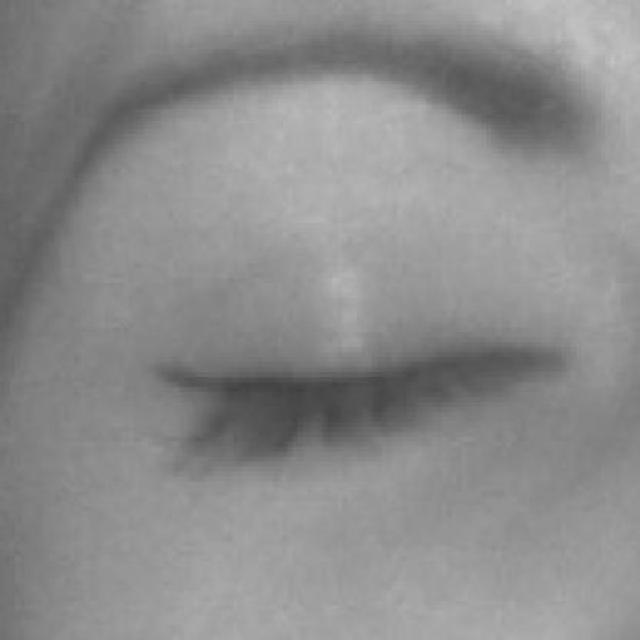drowsy: (150, 204, 578, 571)
